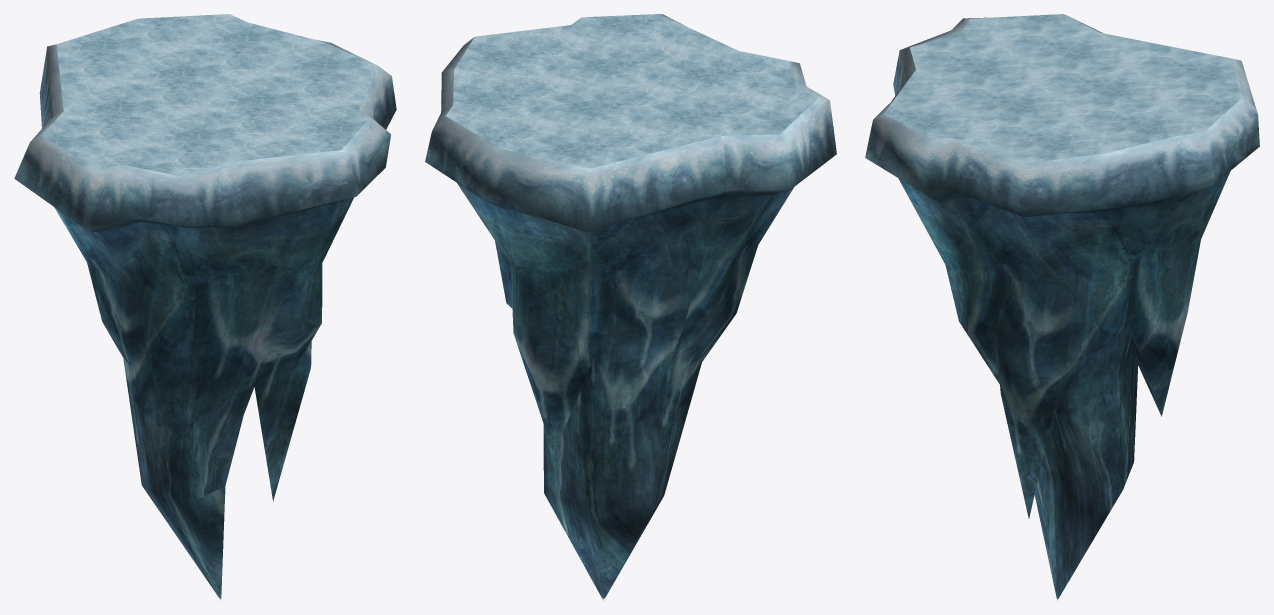
The model's file is environment_stone_dabingshi_001_a.FBX.
3 renders of one model, left to right at view 1: azimuth 30°, elevation 25°; view 2: azimuth 150°, elevation 25°; view 3: azimuth 270°, elevation 25°, orthographic. The views are drawn at different scales.
Visible parts, largest first — view 1: environment_stone_dabingshi_001_01, environment_stone_dabingshi_001_02; view 2: environment_stone_dabingshi_001_01, environment_stone_dabingshi_001_02; view 3: environment_stone_dabingshi_001_01, environment_stone_dabingshi_001_02.
Boxes of the visible parts, <box> form: environment_stone_dabingshi_001_01: <box>14,39,396,600</box>; environment_stone_dabingshi_001_02: <box>41,14,378,176</box>; environment_stone_dabingshi_001_01: <box>425,14,836,600</box>; environment_stone_dabingshi_001_02: <box>446,14,817,168</box>; environment_stone_dabingshi_001_01: <box>865,15,1259,600</box>; environment_stone_dabingshi_001_02: <box>883,14,1240,163</box>.
Bounding box in the file's own units: 578 × 800 × 564.
Materials: 2 (2 with a texture image).
